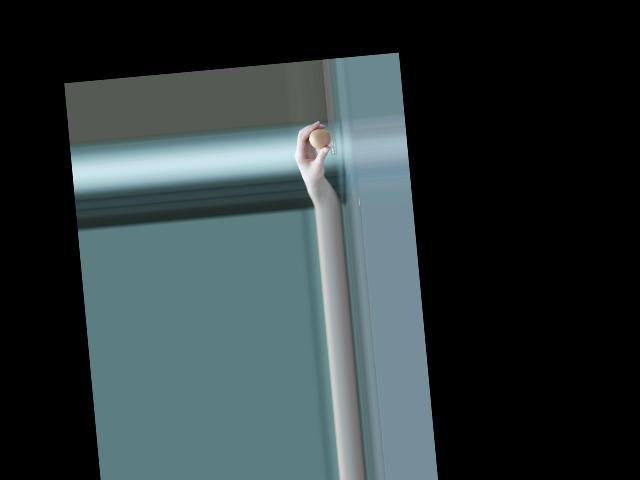egg: (308, 127, 332, 150)
